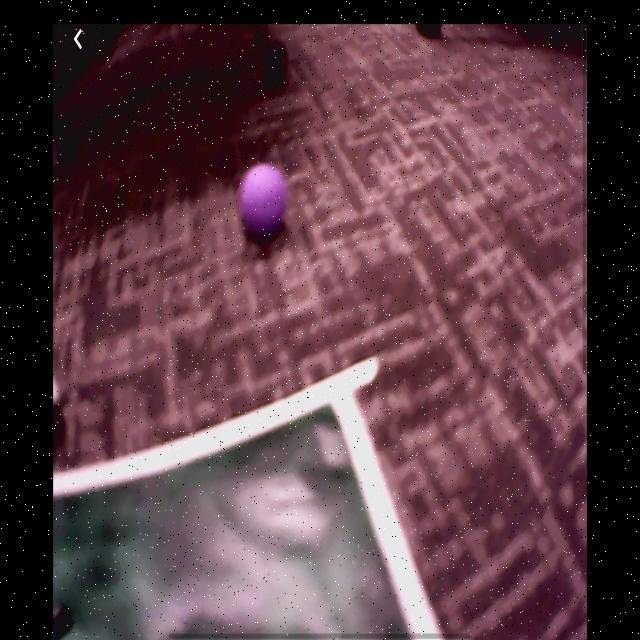ball: (238, 164, 287, 233)
